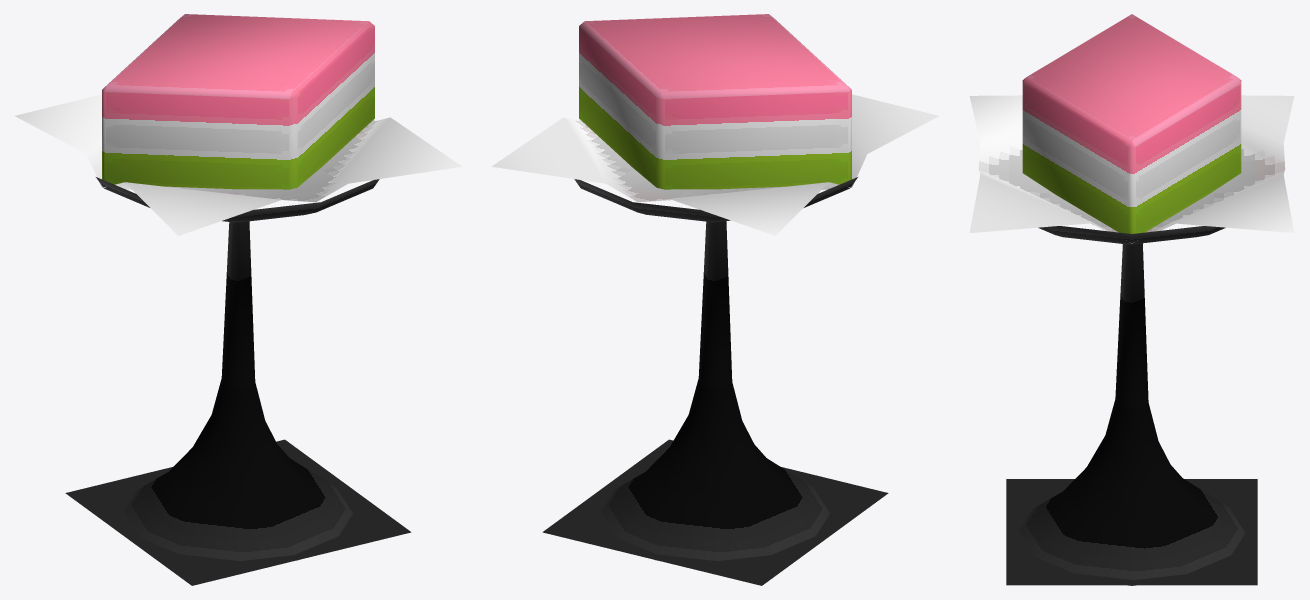
The model's file is int_oth_hisimochi.dae.
3 views of the same model, side by side, from view 1: azimuth 30°, elevation 25°; view 2: azimuth 150°, elevation 25°; view 3: azimuth 270°, elevation 25° (orthographic).
Visible parts, largest first — view 1: int_oth_hisimochi; view 2: int_oth_hisimochi; view 3: int_oth_hisimochi.
Boxes of the visible parts, <box> form: int_oth_hisimochi: <box>15,14,462,585</box>; int_oth_hisimochi: <box>491,14,938,585</box>; int_oth_hisimochi: <box>969,14,1294,585</box>.
Size of the model in its own units: 12.14 by 18.79 by 12.14.
Materials: 1 (1 with a texture image).
